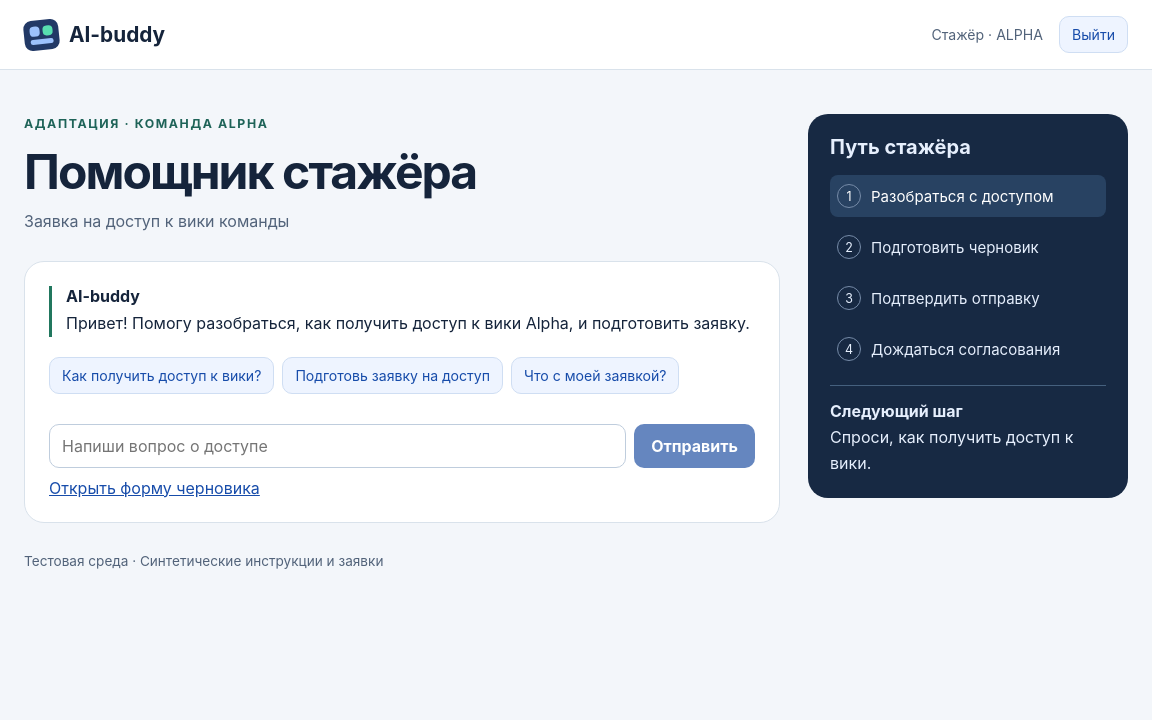
Test: AI-buddy › keeps a draft form open during the reply and lets the user retry the source
Click the button "Как получить доступ к вики?".
click(162, 375)  # box [49,356,274,394]
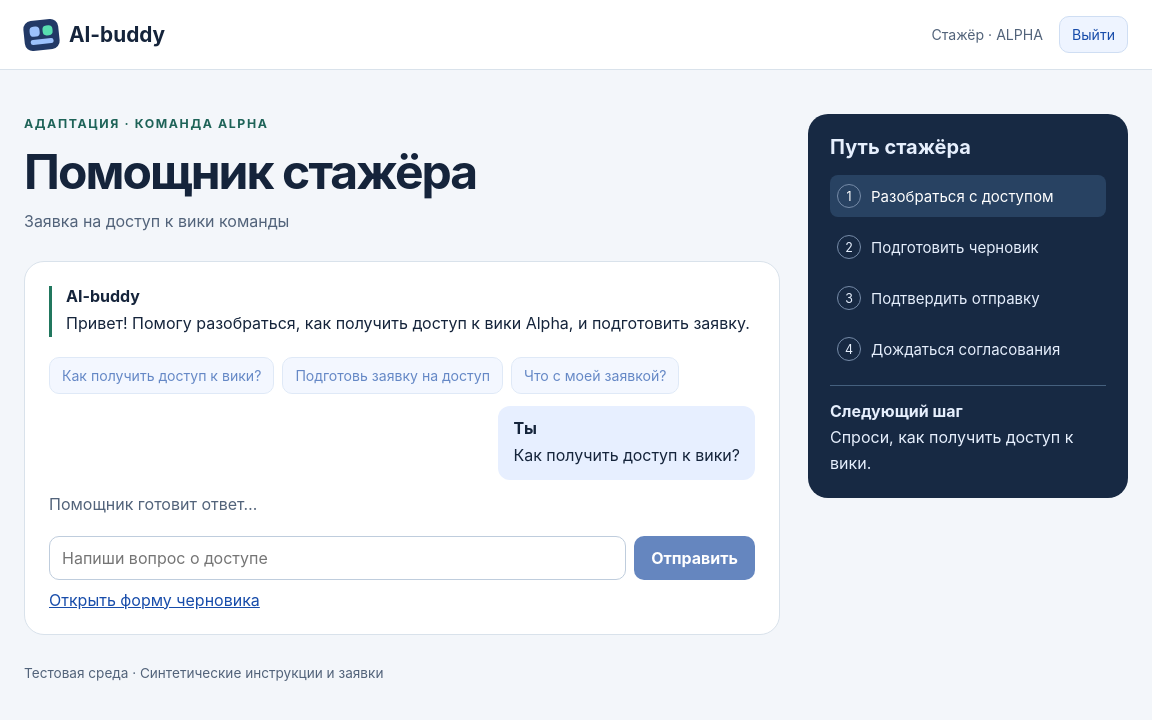
Click the button "Открыть форму черновика".
click(154, 600)  # box [49,590,260,610]
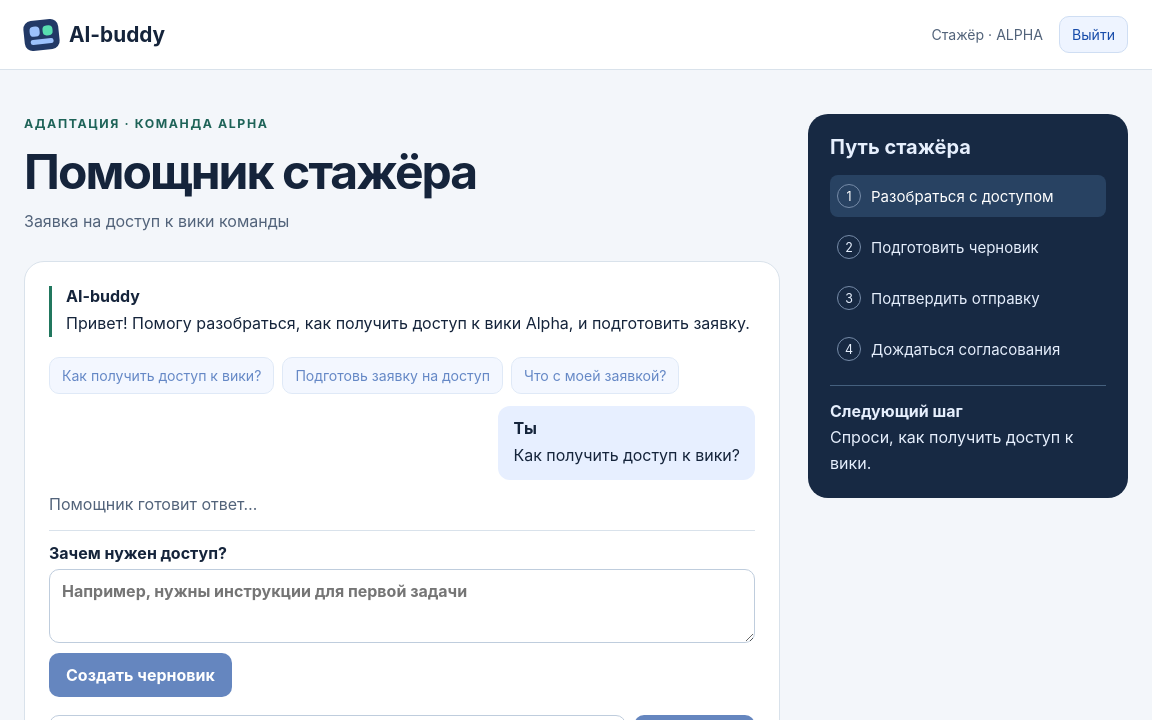
Type "Нужна вики" into the text box labelled "Зачем нужен доступ?".
click(402, 606); type("Нужна вики")  # box [49,569,755,643]
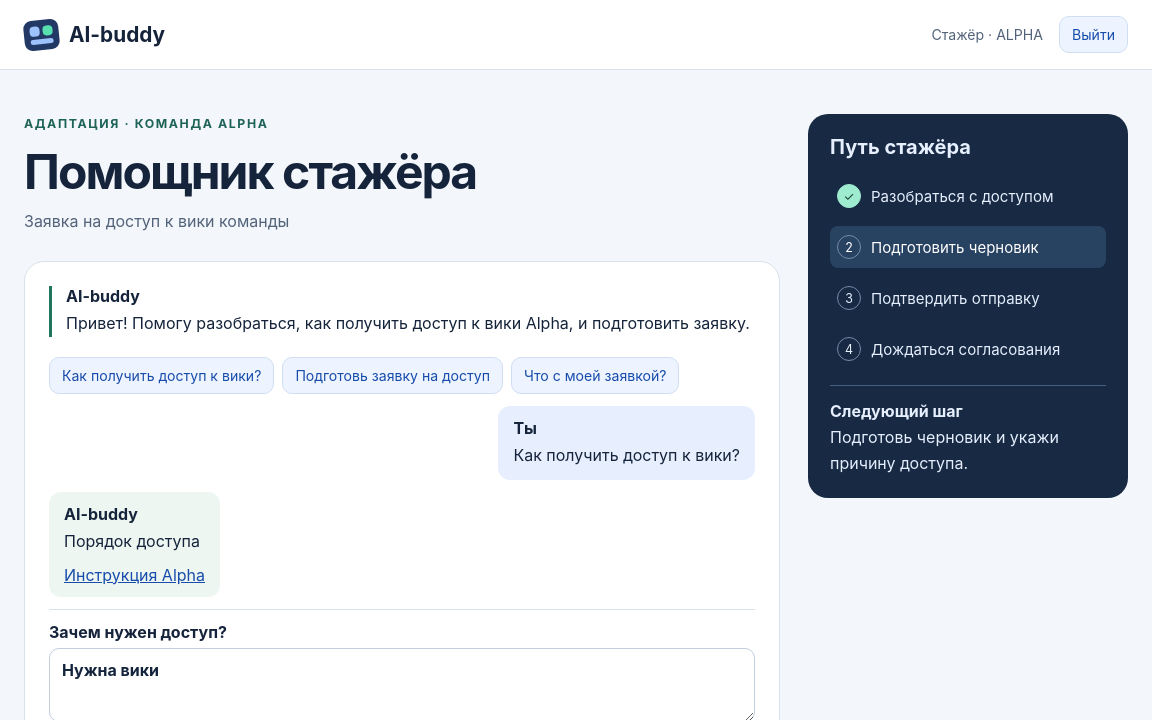
Click the button "Инструкция Alpha".
click(134, 575)  # box [64,565,205,585]
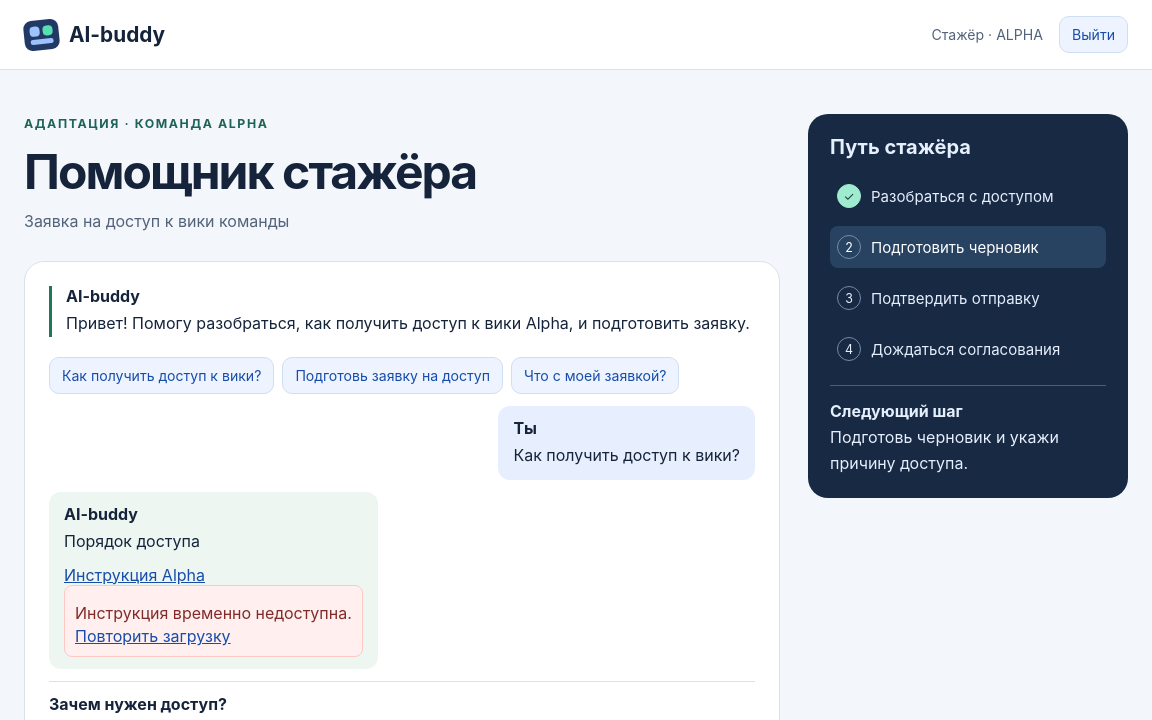
Click the button "Повторить загрузку".
click(153, 636)  # box [75,626,231,646]
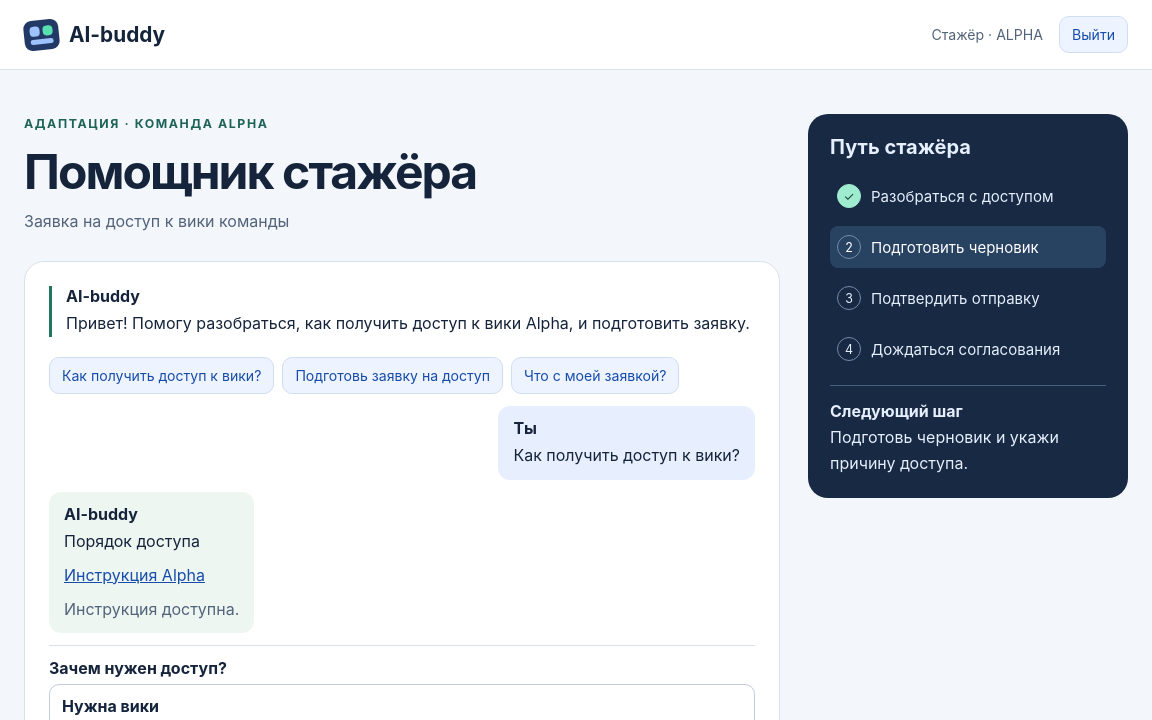
Expected: the text "Инструкция доступна." is shown, [64,599,239,619]
Expected: the message "Инструкция временно недоступна." is gone
